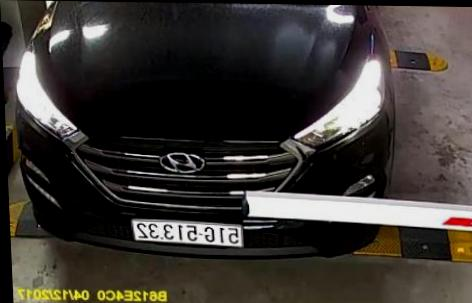License_Plate: (132, 222, 241, 244)
